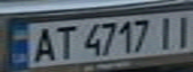1: (115, 18, 136, 54)
4: (78, 20, 103, 57)
7: (130, 16, 154, 52), (100, 19, 121, 56)
A: (27, 25, 60, 63)
I: (151, 14, 181, 48), (172, 11, 193, 48)
T: (48, 22, 78, 61)
